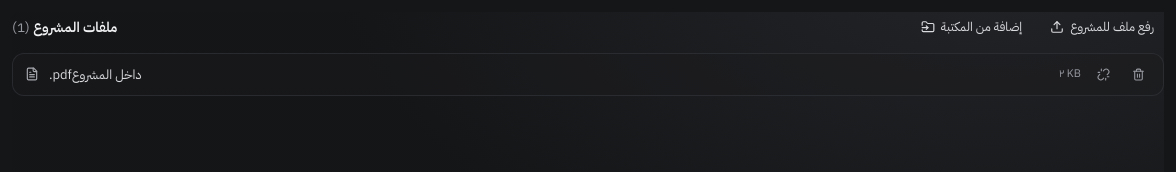
Test case: ملفات المشروع › «إزالة من المشروع» تفكّ الربط وحده — لا DELETE
Click the button named "إزالة من المشروع: داخل المشروع.pdf".
click(1104, 74)  # box [1091,62,1116,87]
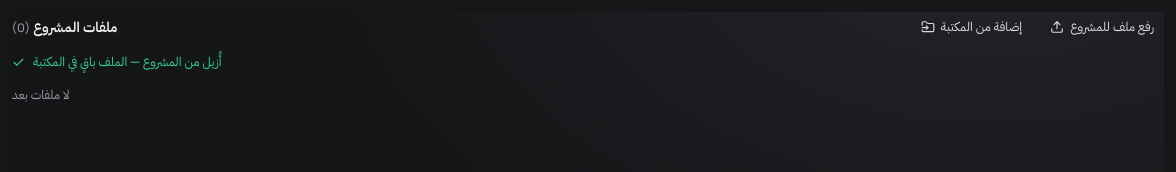
Expected: the message shows "الملف باقٍ في المكتبة", [33,52,222,71]
